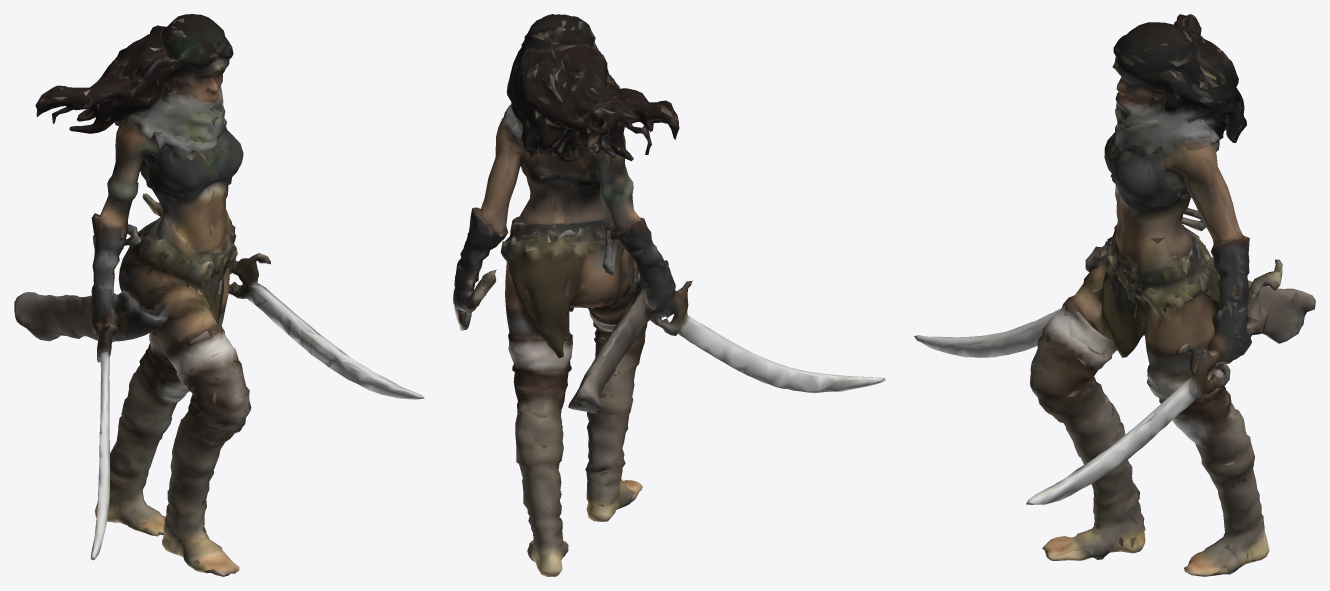
File: Idorii_final.glb
3 views of the same model, side by side, from view 1: azimuth 30°, elevation 25°; view 2: azimuth 150°, elevation 25°; view 3: azimuth 270°, elevation 25° (orthographic). The views are drawn at different scales.
Parts seen in each view (by area): view 1: Mesh1.0; view 2: Mesh1.0; view 3: Mesh1.0.
Part boxes in pixels (left/top/right/bottom): Mesh1.0: left=14, top=14, right=424, bottom=576; Mesh1.0: left=453, top=14, right=885, bottom=576; Mesh1.0: left=914, top=14, right=1315, bottom=576.
Size of the model in its own units: 1.38 by 1.8 by 1.18.
1 material, 1 textured.
